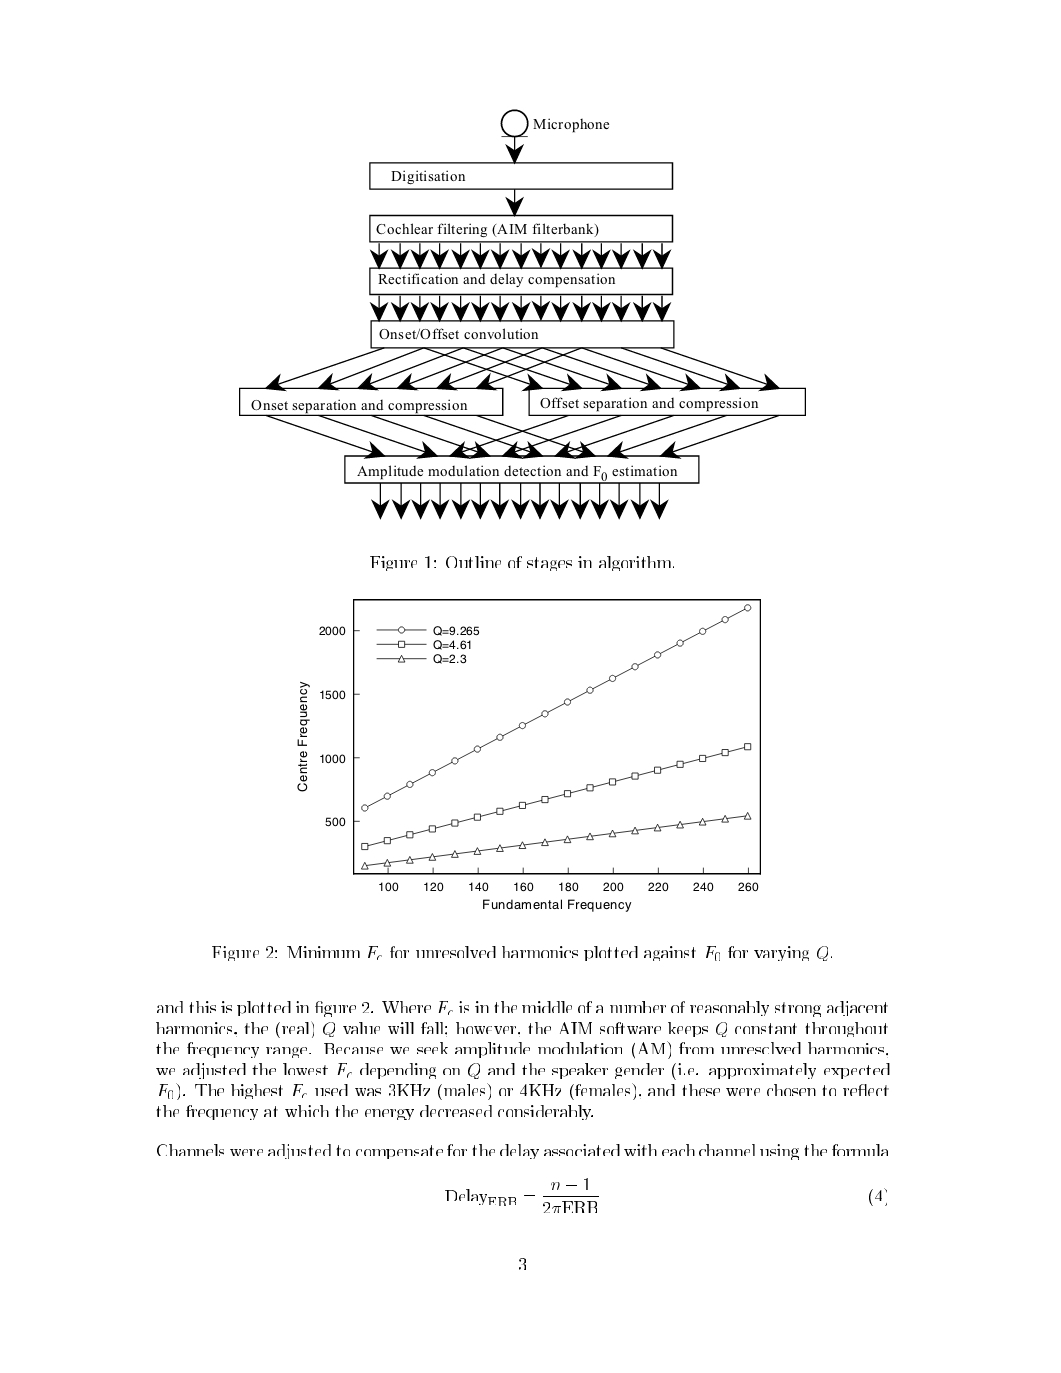figure: (239, 108, 805, 520), (296, 598, 760, 911)
formula: (445, 1177, 886, 1213)
